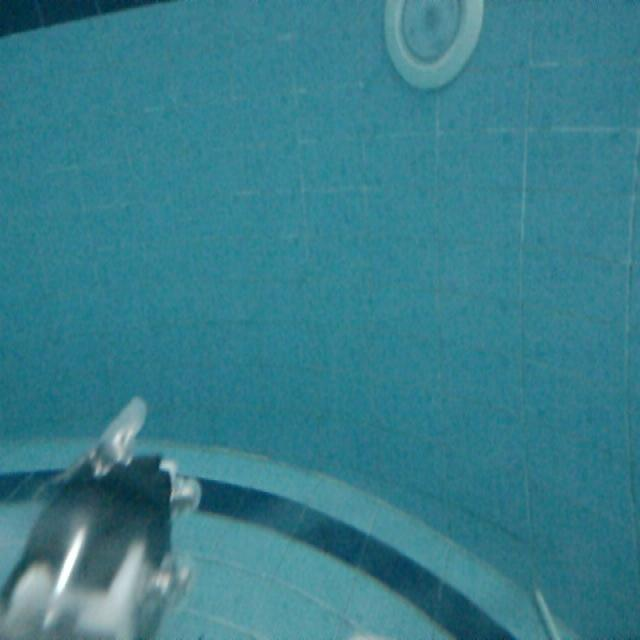Cube: (531, 590, 568, 640)
